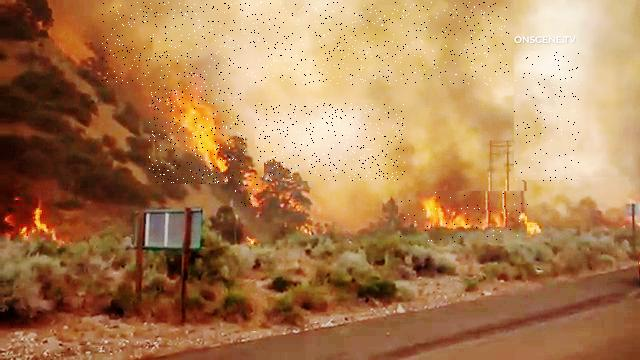fire: (149, 70, 245, 184), (399, 191, 530, 244), (228, 162, 264, 207)
smoke: (101, 2, 509, 85), (256, 103, 406, 181), (579, 4, 632, 180), (515, 52, 580, 183)
